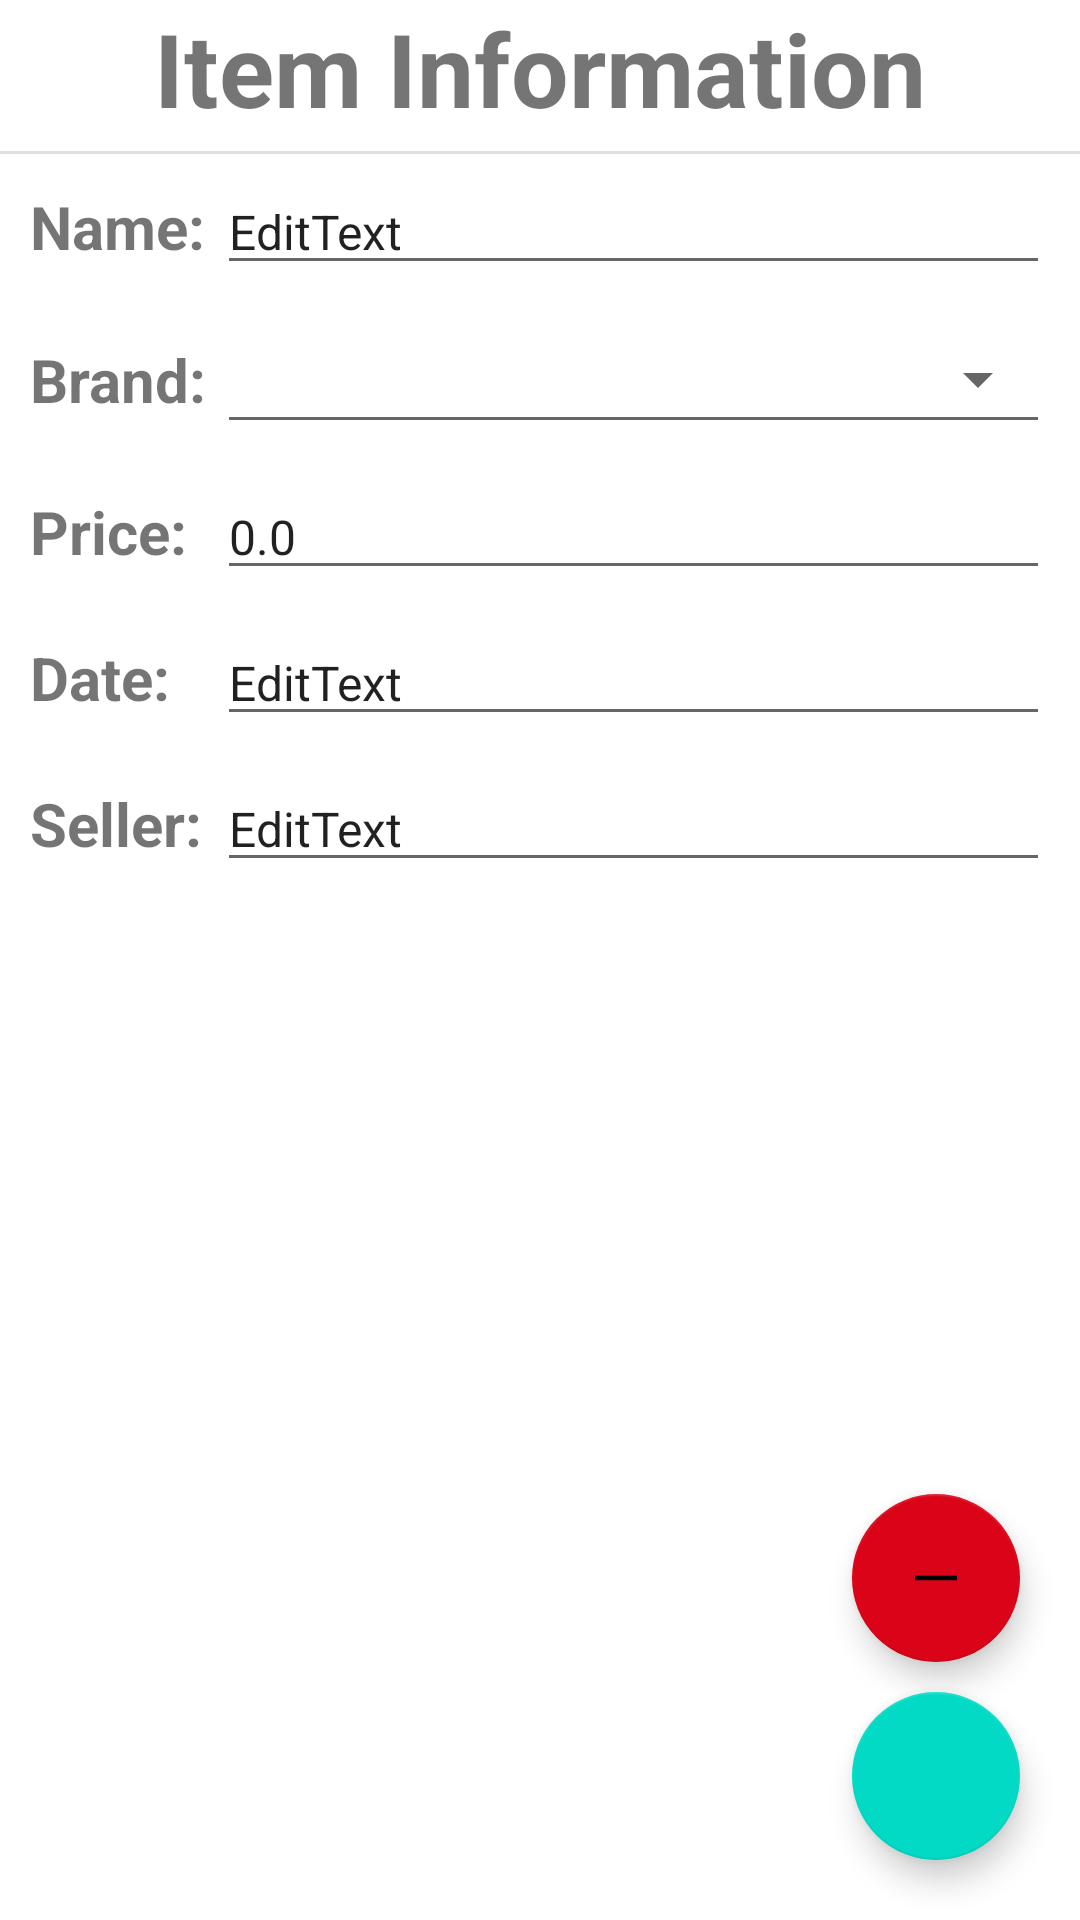

Icon click points for this 1080px x 1920px phone screenshot, format point (x, y):
remove: point (936, 1578)
